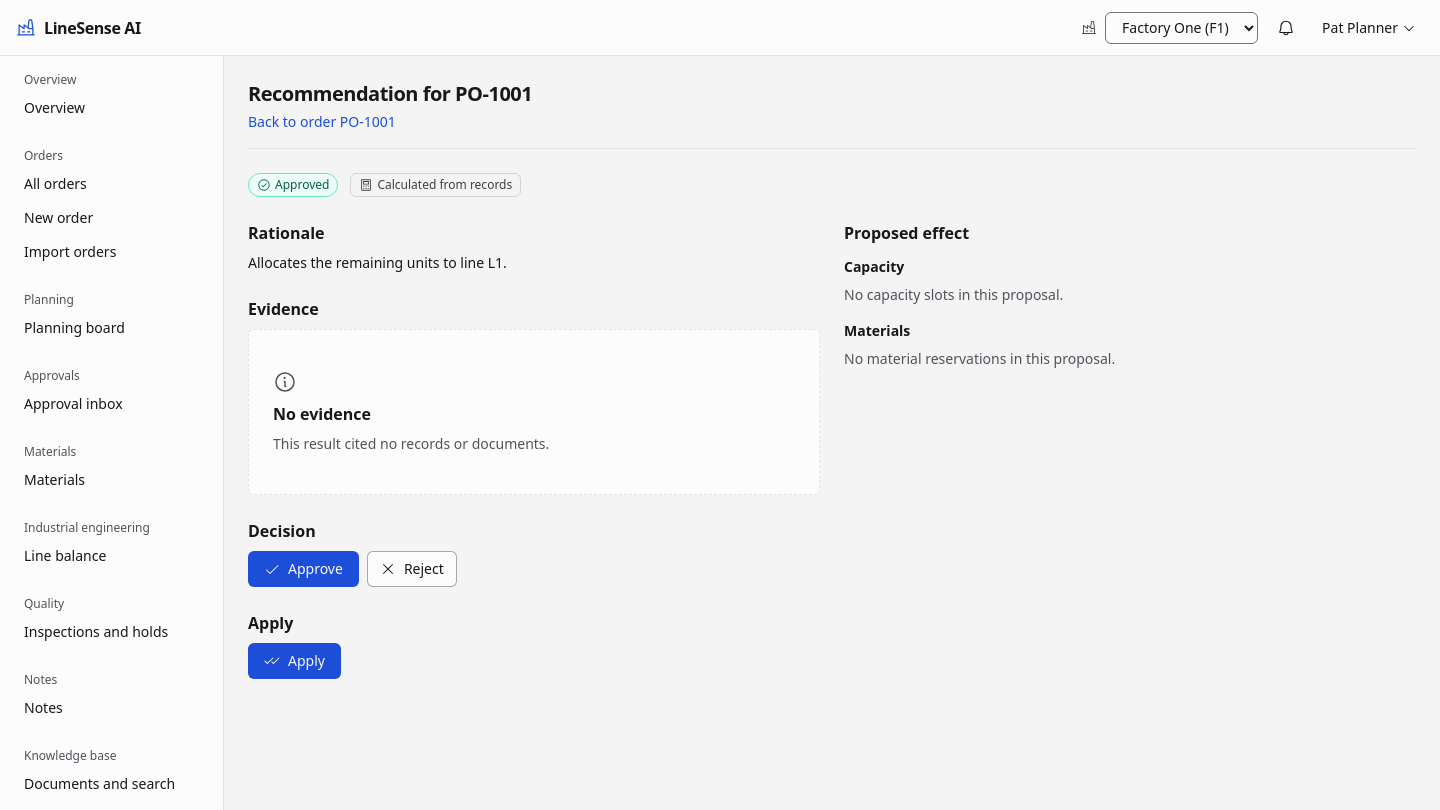
RecommendationPage › renders the stale inputs list from a 409 STALE_INPUT apply response
Step 1. Click the button "Apply" → x=294, y=661, box left=248, top=643, right=341, bottom=679
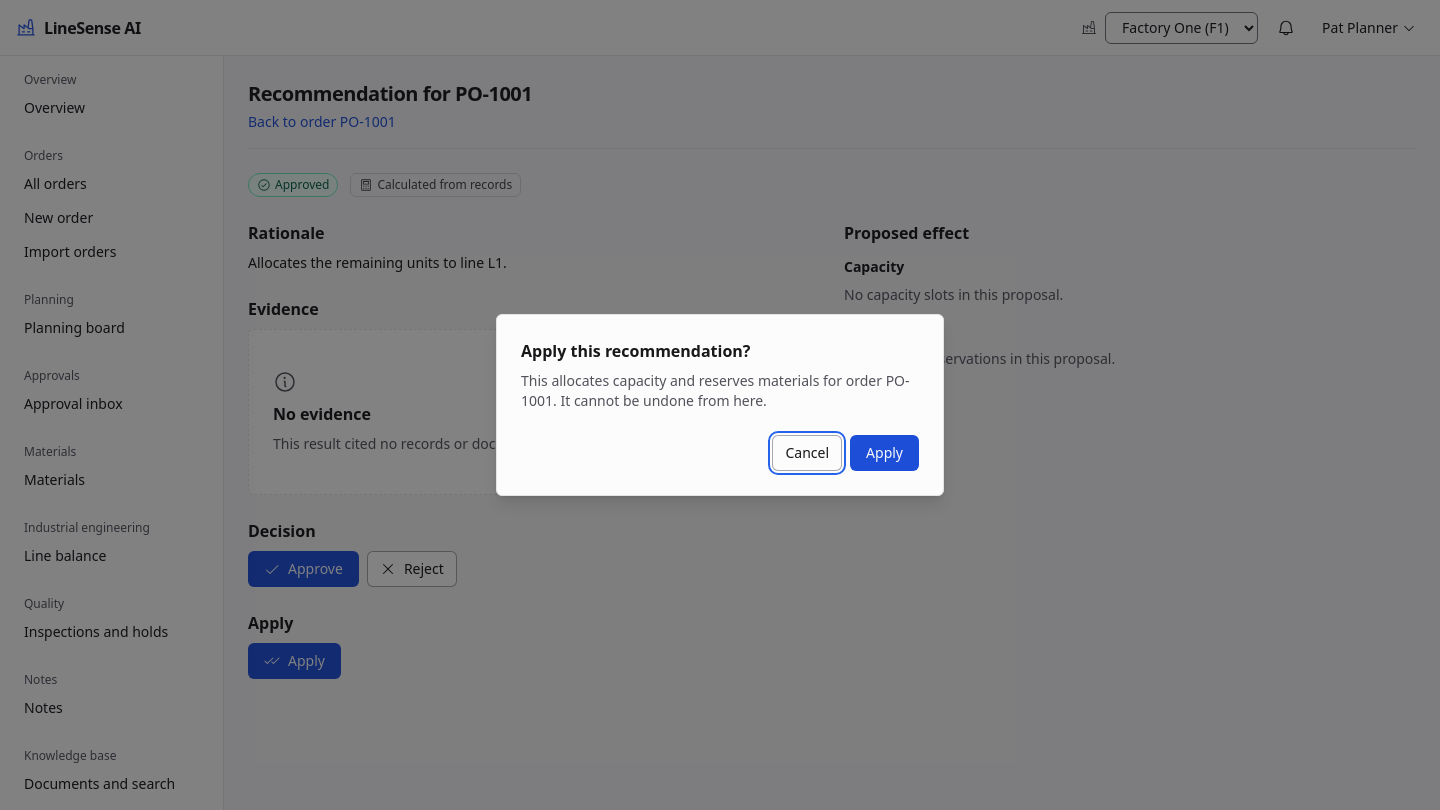
Step 2. Click the button "Apply" → x=885, y=453, box left=850, top=435, right=919, bottom=471
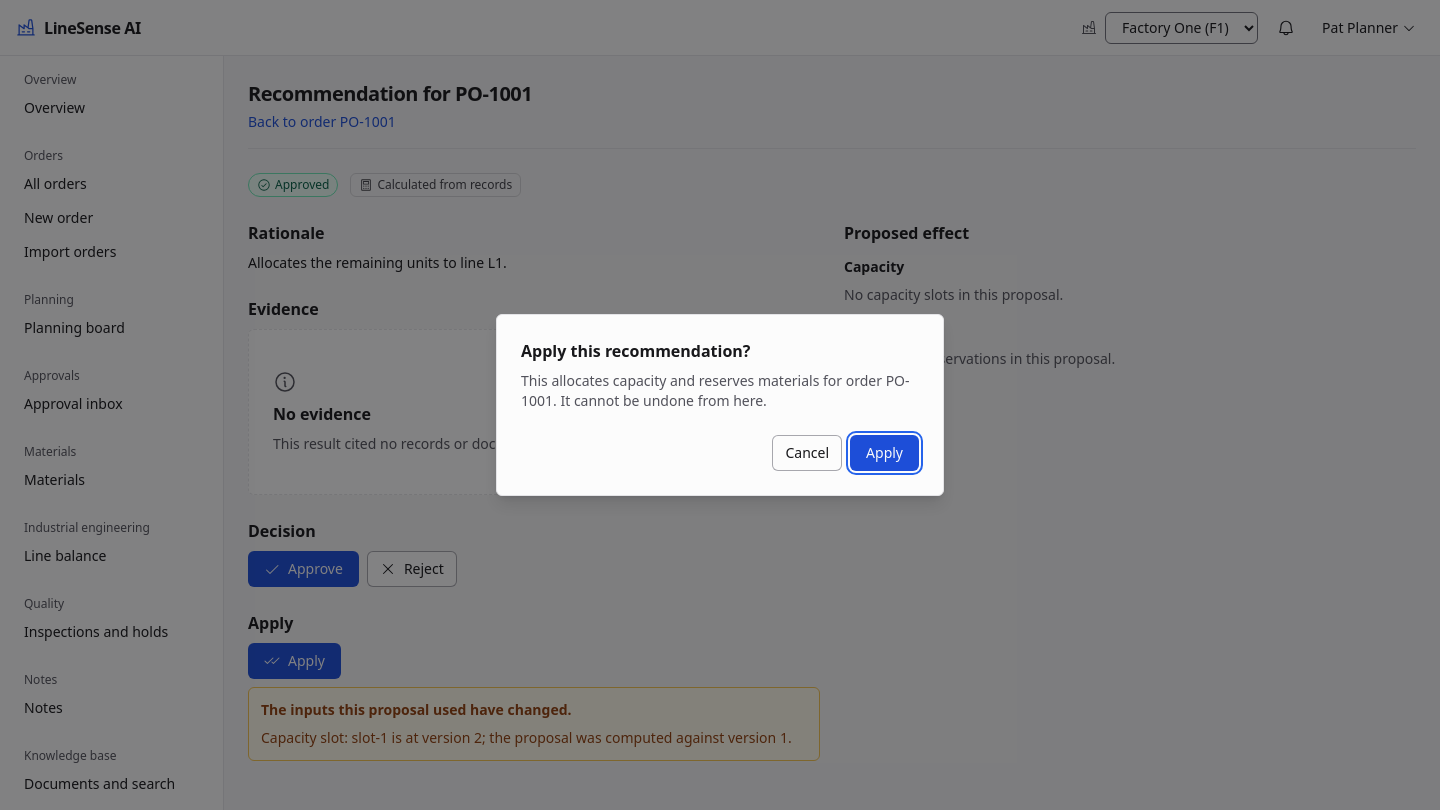
Check: the list item "slot-1 is at version 2; the proposal was computed against version 1." is shown, box left=352, top=728, right=792, bottom=747
